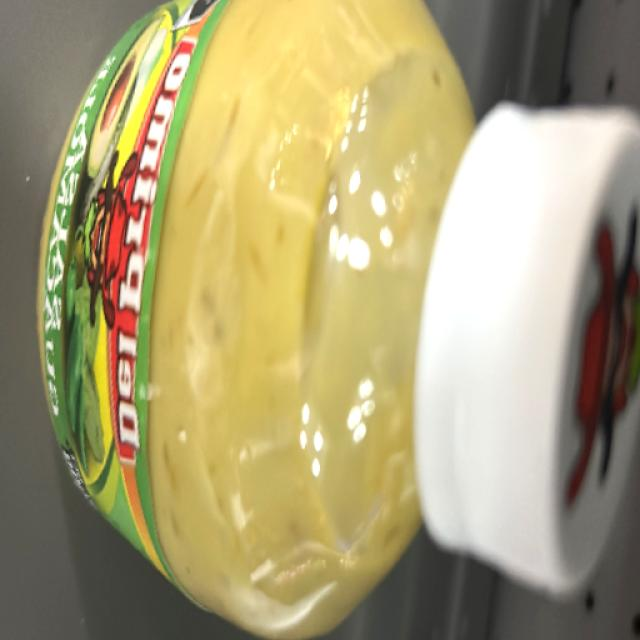delPrimoSalsa: (43, 29, 616, 605)
